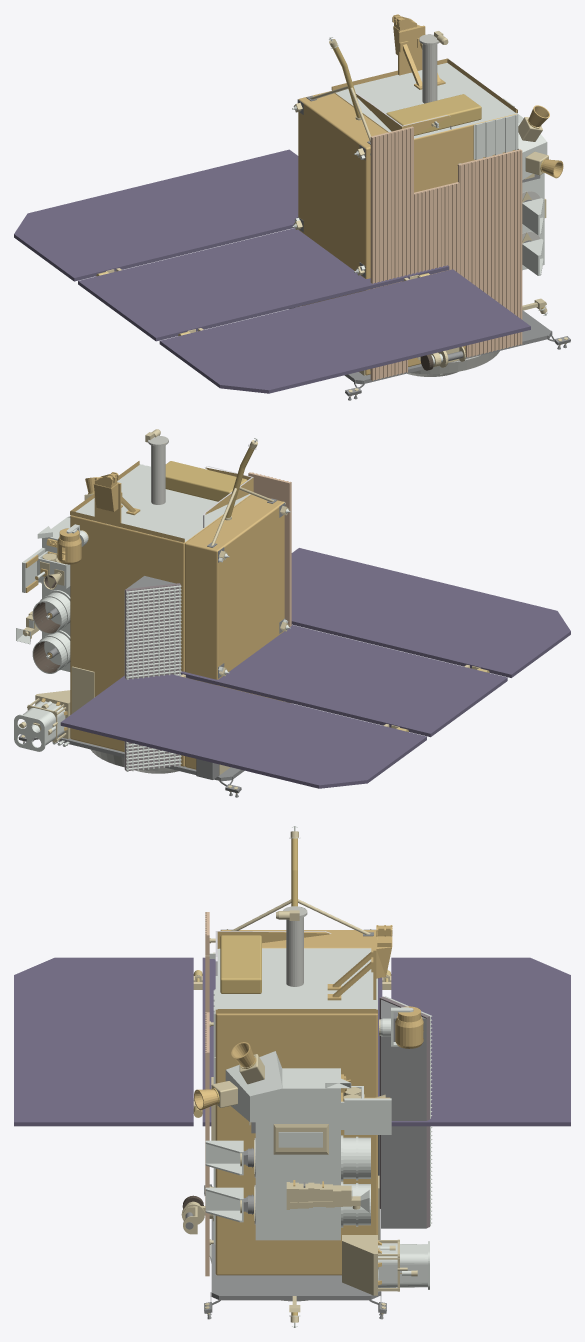
Rendered from space-lro.glb.
3 renders of one model, top to bottom at view 1: azimuth 30°, elevation 25°; view 2: azimuth 150°, elevation 25°; view 3: azimuth 270°, elevation 25°, orthographic. The views are drawn at different scales.
Parts seen in each view (by area): view 1: Layer_0; view 2: Layer_0; view 3: Layer_0.
Part boxes in pixels (x1,y1,x2,y2): Layer_0: (14, 14, 570, 400); Layer_0: (14, 429, 570, 797); Layer_0: (14, 826, 570, 1327).
Bounding box in the file's own units: 33.28 × 26.29 × 32.26.
4 materials, 4 textured.
